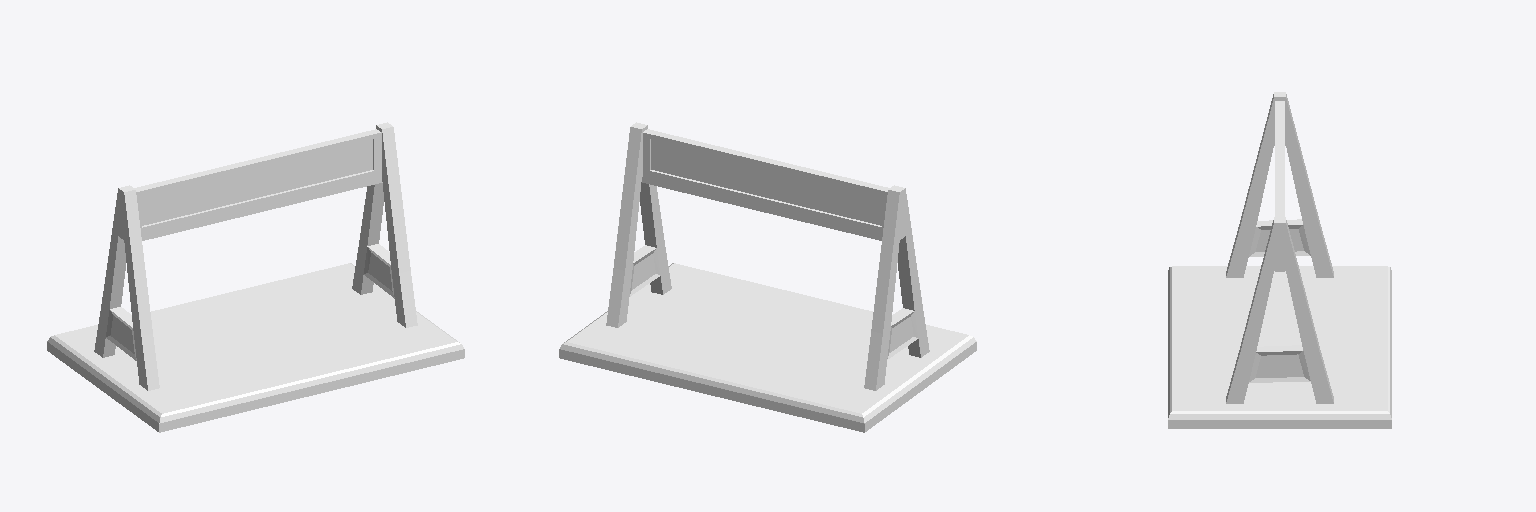
Rendered from barrier.obj.
3 views of the same model, side by side, from view 1: azimuth 30°, elevation 25°; view 2: azimuth 150°, elevation 25°; view 3: azimuth 270°, elevation 25° (orthographic).
Parts seen in each view (by area): view 1: Cube.001_Cube.002, SM_Prop_Barrier_01_Mesh.001; view 2: Cube.001_Cube.002, SM_Prop_Barrier_01_Mesh.001; view 3: Cube.001_Cube.002, SM_Prop_Barrier_01_Mesh.001.
Boxes of the visible parts, box(x1,y1,x2,y2) form: Cube.001_Cube.002: box(47, 263, 464, 432); SM_Prop_Barrier_01_Mesh.001: box(94, 122, 417, 390); Cube.001_Cube.002: box(559, 263, 976, 432); SM_Prop_Barrier_01_Mesh.001: box(606, 122, 929, 390); Cube.001_Cube.002: box(1168, 266, 1391, 428); SM_Prop_Barrier_01_Mesh.001: box(1226, 92, 1333, 403).
Bounding box in the file's own units: 0.0216 × 0.0133 × 0.0137.